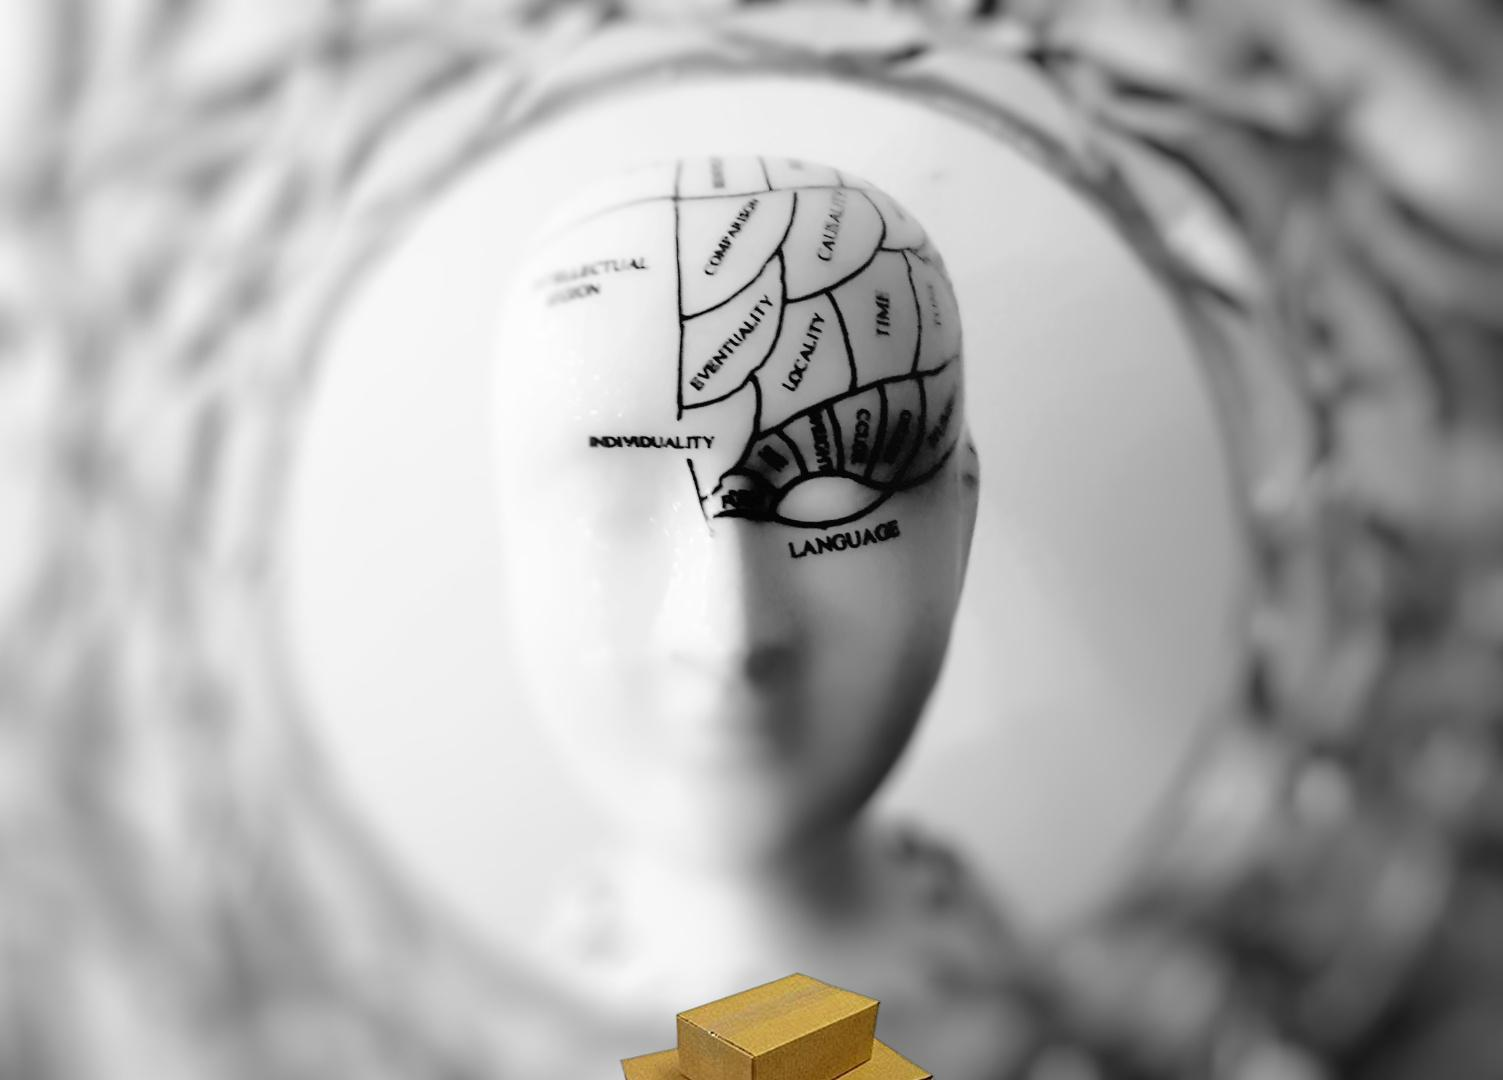trashbox-cardboard: (618, 972, 939, 1080)
